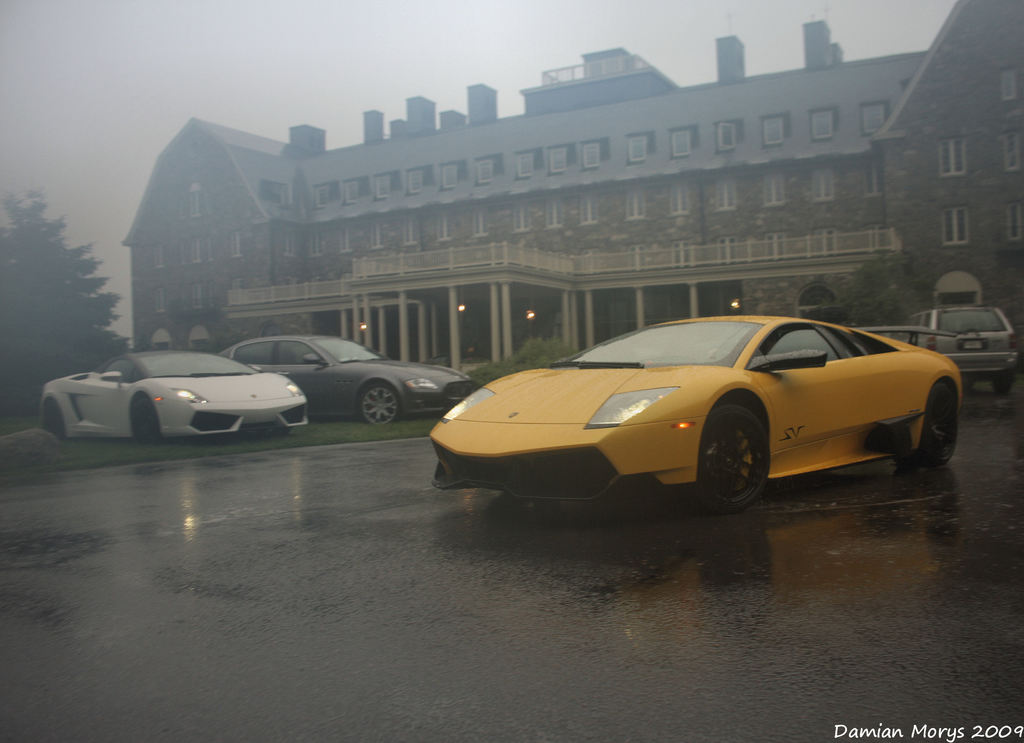cars: (428, 311, 966, 516), (32, 346, 311, 443), (217, 326, 477, 427), (885, 301, 1023, 392)
